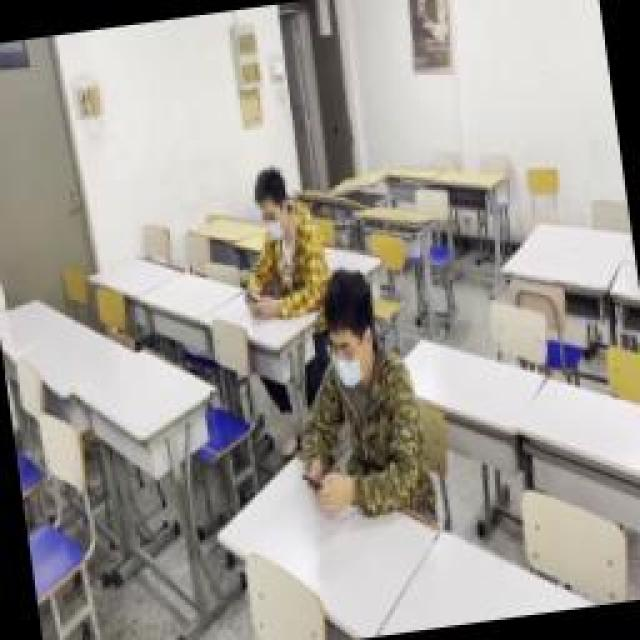phone: (283, 302, 425, 520), (230, 163, 325, 315)
